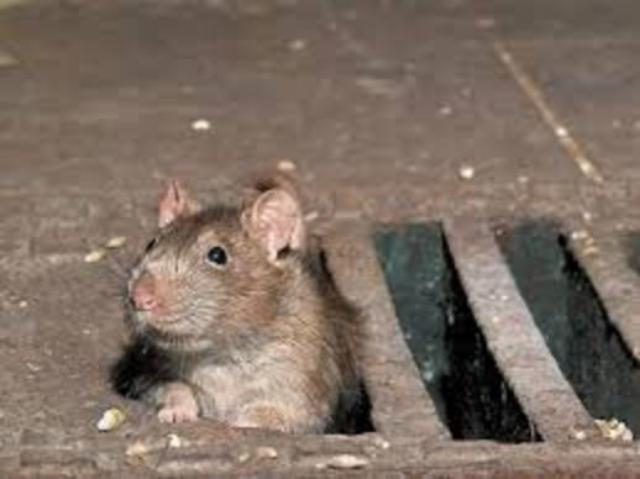rat: (100, 170, 374, 444)
